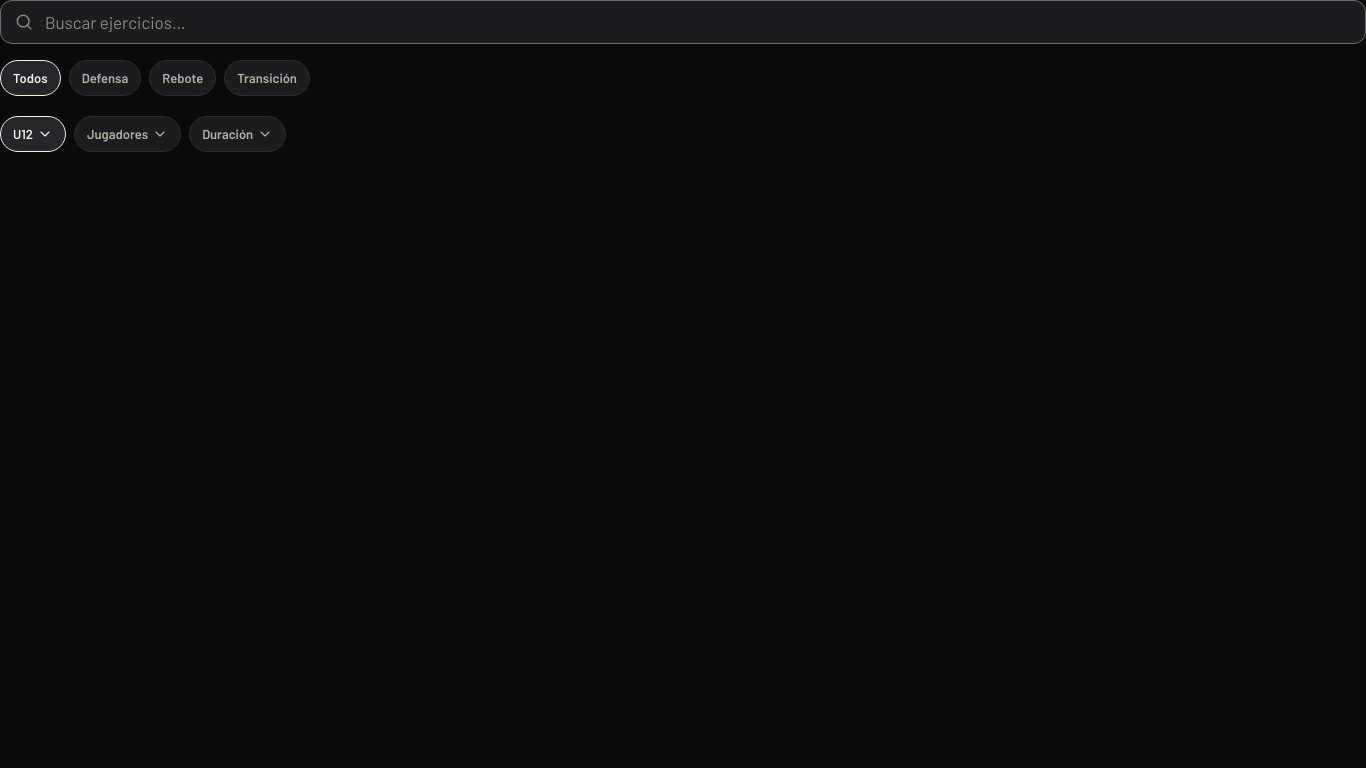
Test: un valor de la URL que no es una opción › un valor que sí es una opción no duplica nada
Step 1. Click the button "U12" → click(33, 134), box [0, 112, 66, 156]
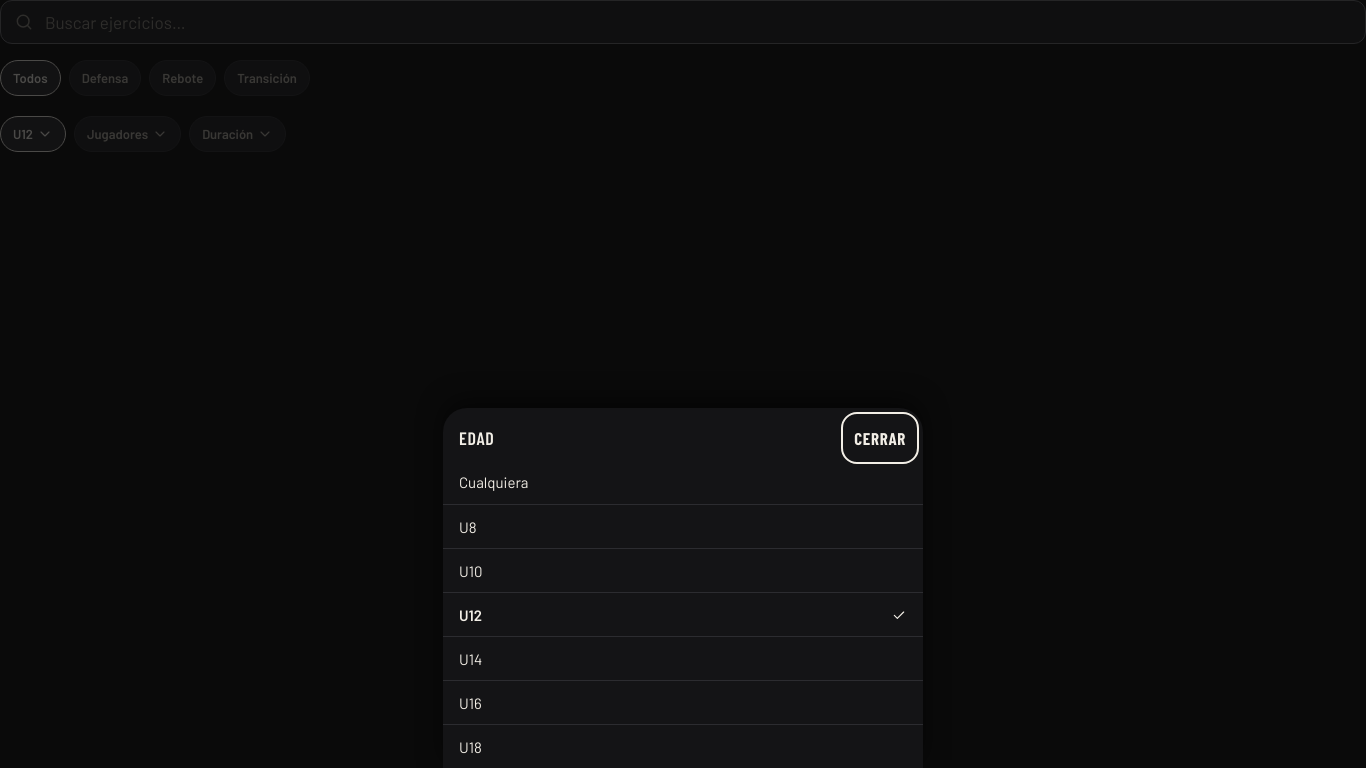
Now the number of buttons "U12" is 1, box [443, 592, 923, 636]
